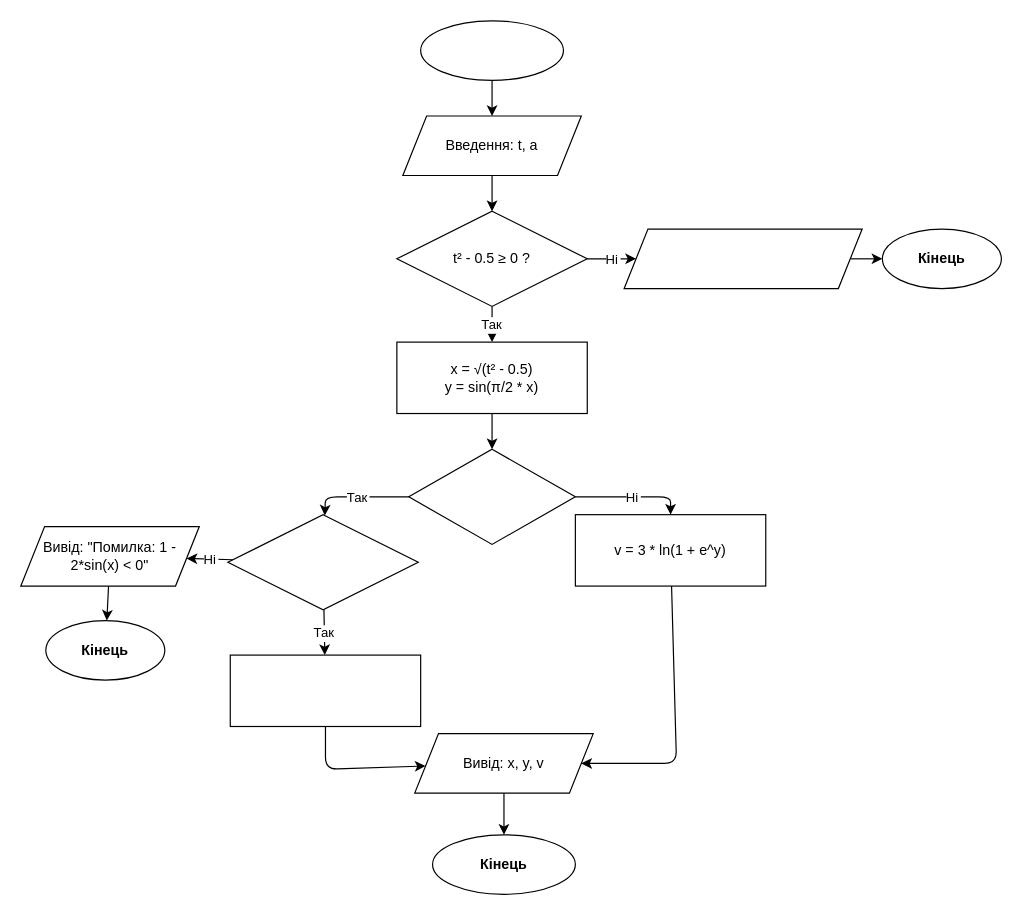
Some shapes in this 1022 by 915 pixel diagram are drawn without their labels. Here are the shapes that lost their labels. From the top down, the centre of each, then its label:
the point at 491,50: Початок
the point at 742,258: Вивід: "Помилка: t² - 0.5 < 0"
the point at 491,496: y ≤ a ?
the point at 322,561: 1 - 2*sin(x) ≥ 0 ?
the point at 325,690: v = y + x * √(1 - 2*sin(x))
